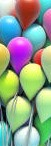Balloon: (7, 38, 33, 72), (19, 63, 44, 95), (6, 97, 31, 128), (15, 1, 40, 31), (36, 88, 51, 122)
